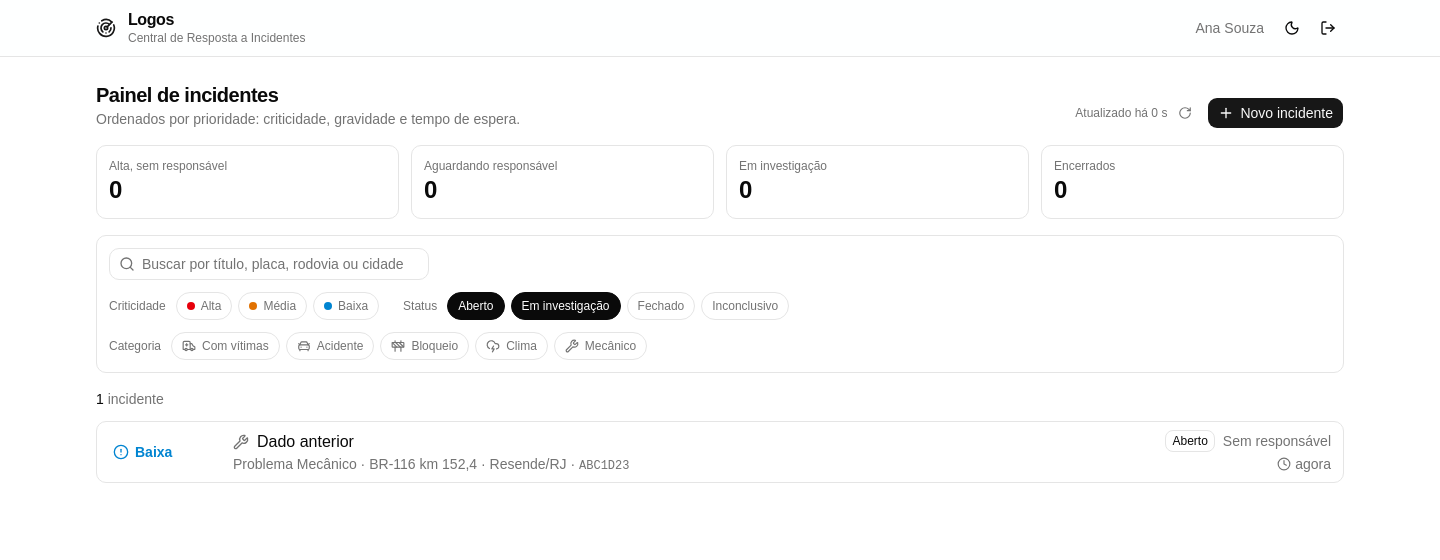
Scenario: painel de incidentes › falha ao atualizar mantém a lista na tela com um aviso
Expected: the text "Dado anterior" is shown, top-left (257, 430), bottom-right (354, 454)
Click the button named "Atualizar agora" at (1185, 113), box top-left (1171, 99), bottom-right (1199, 127)
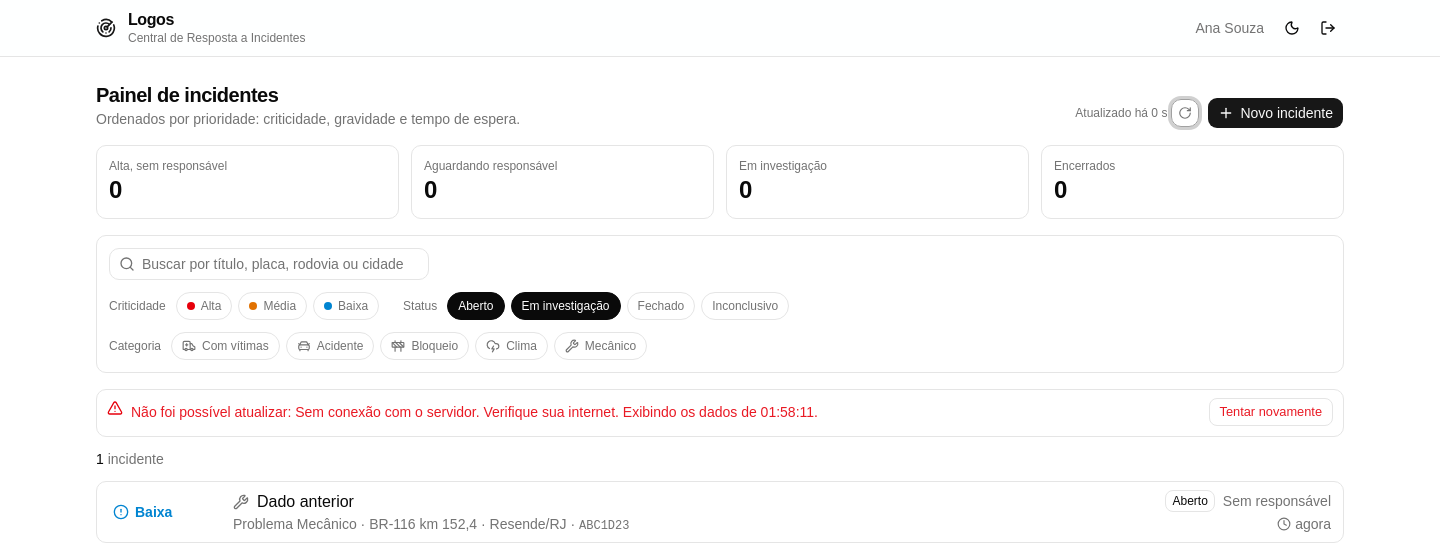
Expected: the text "Dado anterior" is shown, top-left (257, 490), bottom-right (354, 514)
Result: the text "Não foi possível atualizar" is shown at top-left (131, 404), bottom-right (295, 420)
